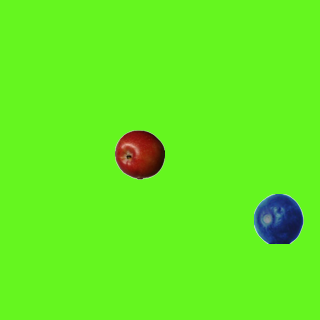Apple Braeburn: (114, 129, 164, 179)
Huckleberry: (253, 193, 303, 243)
